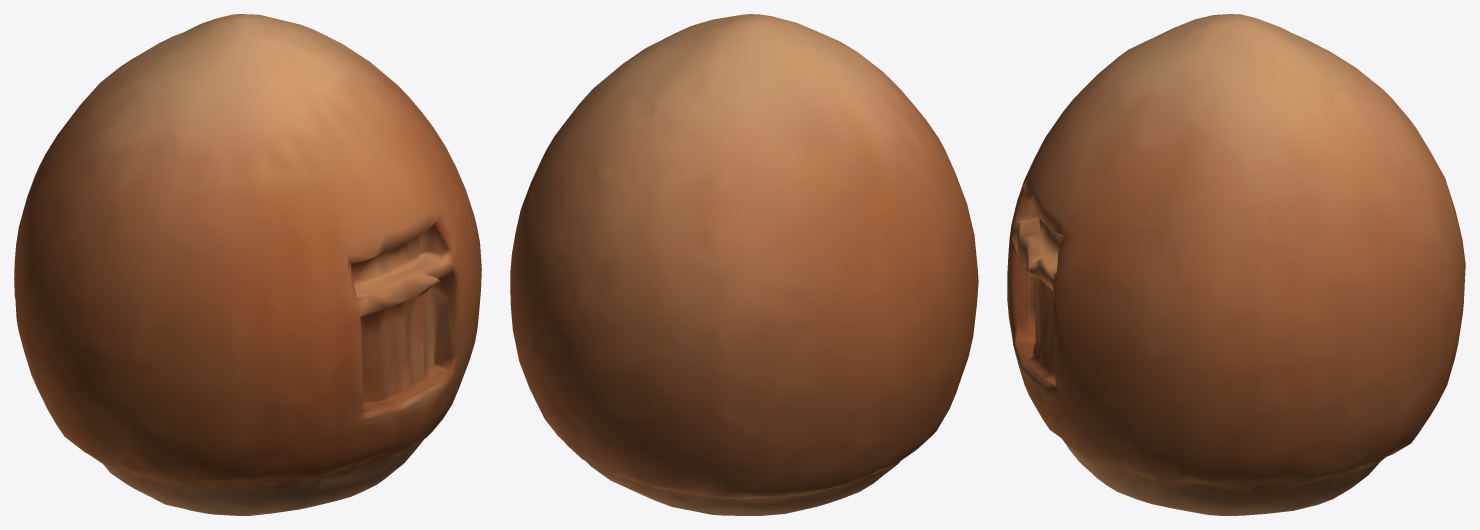
The model's file is granary.glb.
3 renders of one model, left to right at view 1: azimuth 30°, elevation 25°; view 2: azimuth 150°, elevation 25°; view 3: azimuth 270°, elevation 25°, orthographic.
Visible parts, largest first — view 1: tripo_node_aec3a92c-39fa-4b62-926c-6f5648d7a5f1; view 2: tripo_node_aec3a92c-39fa-4b62-926c-6f5648d7a5f1; view 3: tripo_node_aec3a92c-39fa-4b62-926c-6f5648d7a5f1.
Boxes of the visible parts, x1,y1,x2,y2 form: tripo_node_aec3a92c-39fa-4b62-926c-6f5648d7a5f1: (14, 14, 481, 515); tripo_node_aec3a92c-39fa-4b62-926c-6f5648d7a5f1: (510, 14, 978, 515); tripo_node_aec3a92c-39fa-4b62-926c-6f5648d7a5f1: (1007, 14, 1465, 515).
Size of the model in its own units: 0.9254 by 1 by 0.914.
1 material, 1 textured.
